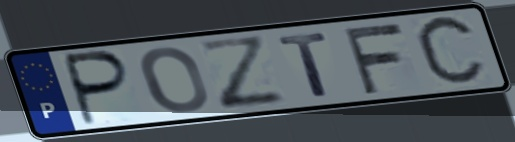C: (411, 11, 490, 92)
F: (338, 20, 407, 97)
O: (137, 45, 212, 116)
P: (63, 48, 135, 129)
T: (274, 30, 333, 100)
Z: (193, 34, 291, 113)
